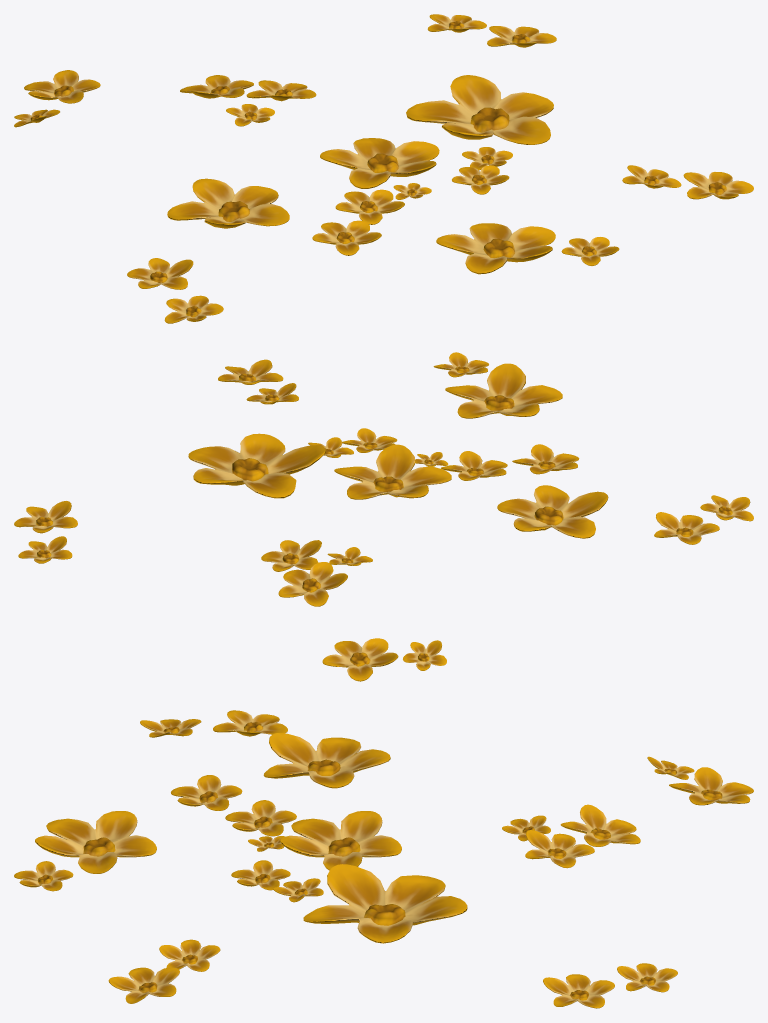
Rendered from Flower_GRP.fbx.
The picture shows the model from 3 angles, top to bottom: view 1: azimuth 30°, elevation 25°; view 2: azimuth 150°, elevation 25°; view 3: azimuth 270°, elevation 25°; orthographic projection. The views are drawn at different scales.
Visible parts, largest first — view 1: Flowers_All; view 2: Flowers_All; view 3: Flowers_All.
Part boxes in pixels (x1,y1,x2,y2): Flowers_All: [14, 14, 753, 323]; Flowers_All: [14, 352, 753, 681]; Flowers_All: [14, 710, 753, 1008].
Size of the model in its own units: 4.74 by 0.3446 by 5.01.
